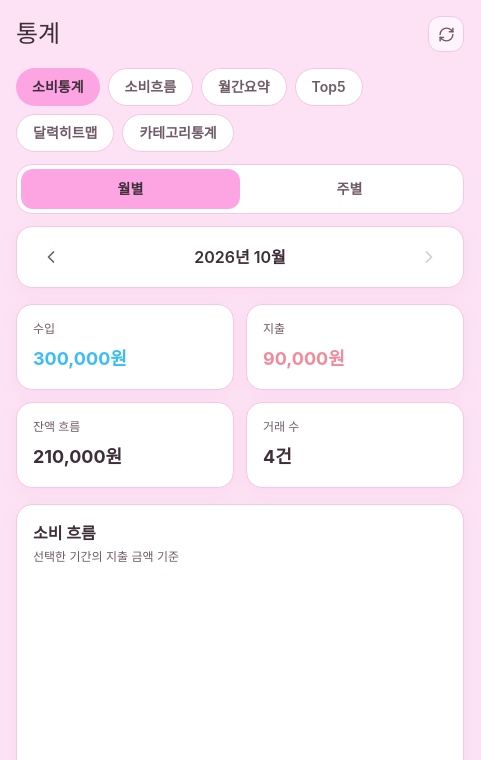
StatisticsPage › switches to weekly period statistics
What coordinates should you click on to do the following:
click the button "주별"
I would click on:
 (350, 189)
Its box is [240, 169, 459, 209].
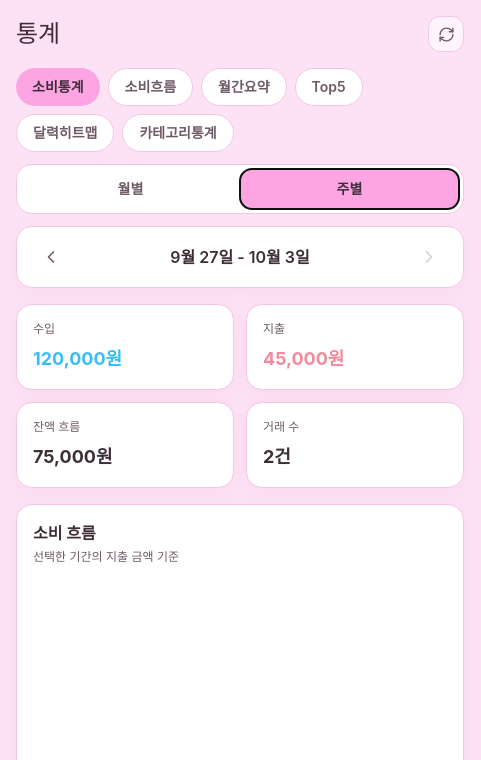
Now the text "120,000원" is shown, box [33, 348, 122, 369]
Now the text "45,000원" is shown, box [263, 348, 344, 369]
